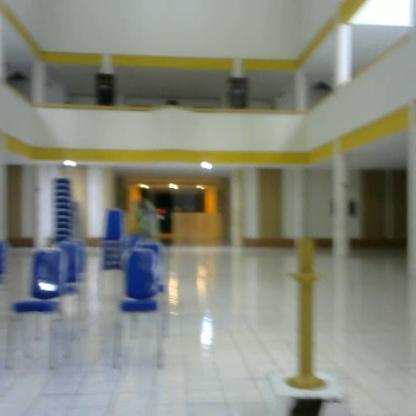pole: (282, 238, 336, 391)
